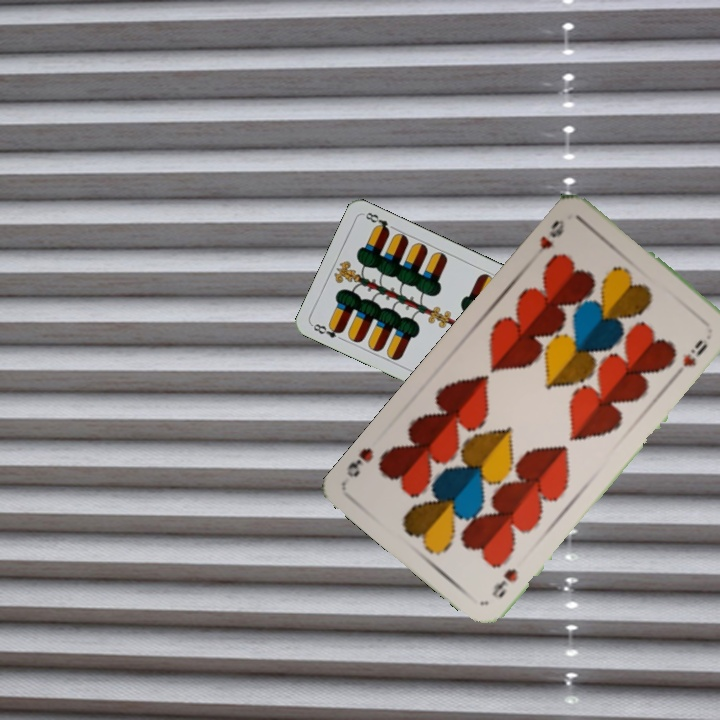E8: (308, 319, 346, 341)
H9: (488, 564, 521, 601), (535, 215, 567, 252)
